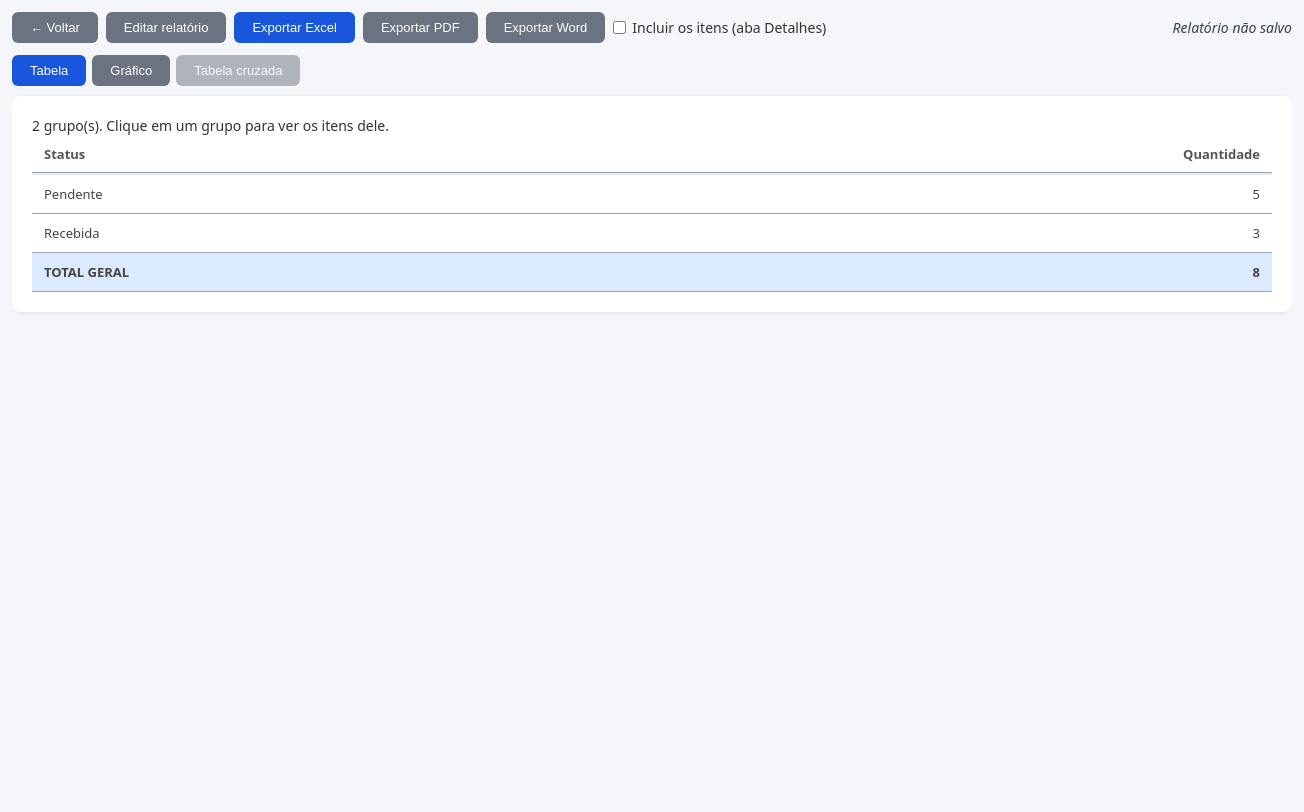
Test: Exportar em PDF e Word › voltar para a tabela retira a opção do gráfico (ele não está mais na tela)
This screenshot has width=1304, height=812.
expect the text "TOTAL GERAL" is shown: met, box [44, 263, 129, 281]
Click the button "Gráfico" at (131, 70), box [92, 55, 170, 86]
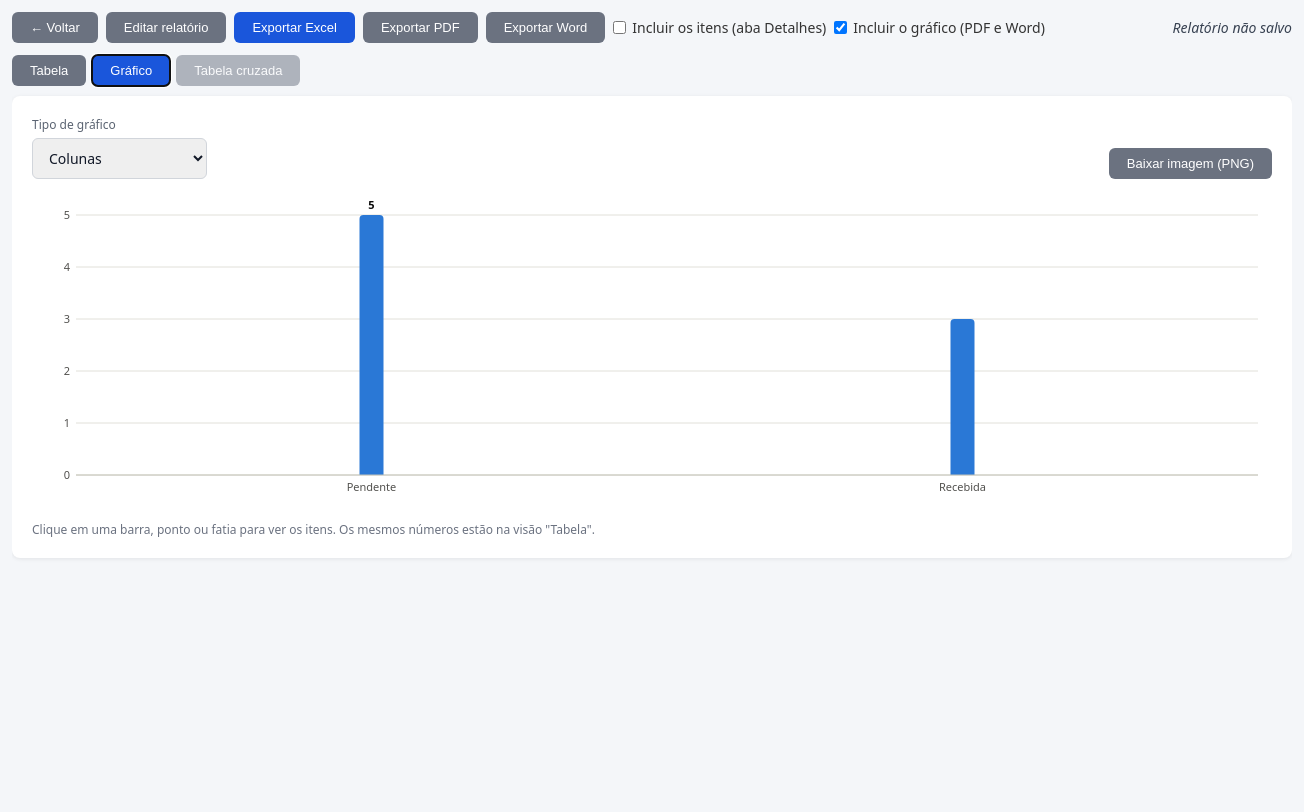
expect the checkbox labelled "Incluir o gráfico (PDF e Word)" is shown: met, box [834, 21, 847, 34]
Click the button "Tabela" at (49, 70), box [12, 55, 86, 86]
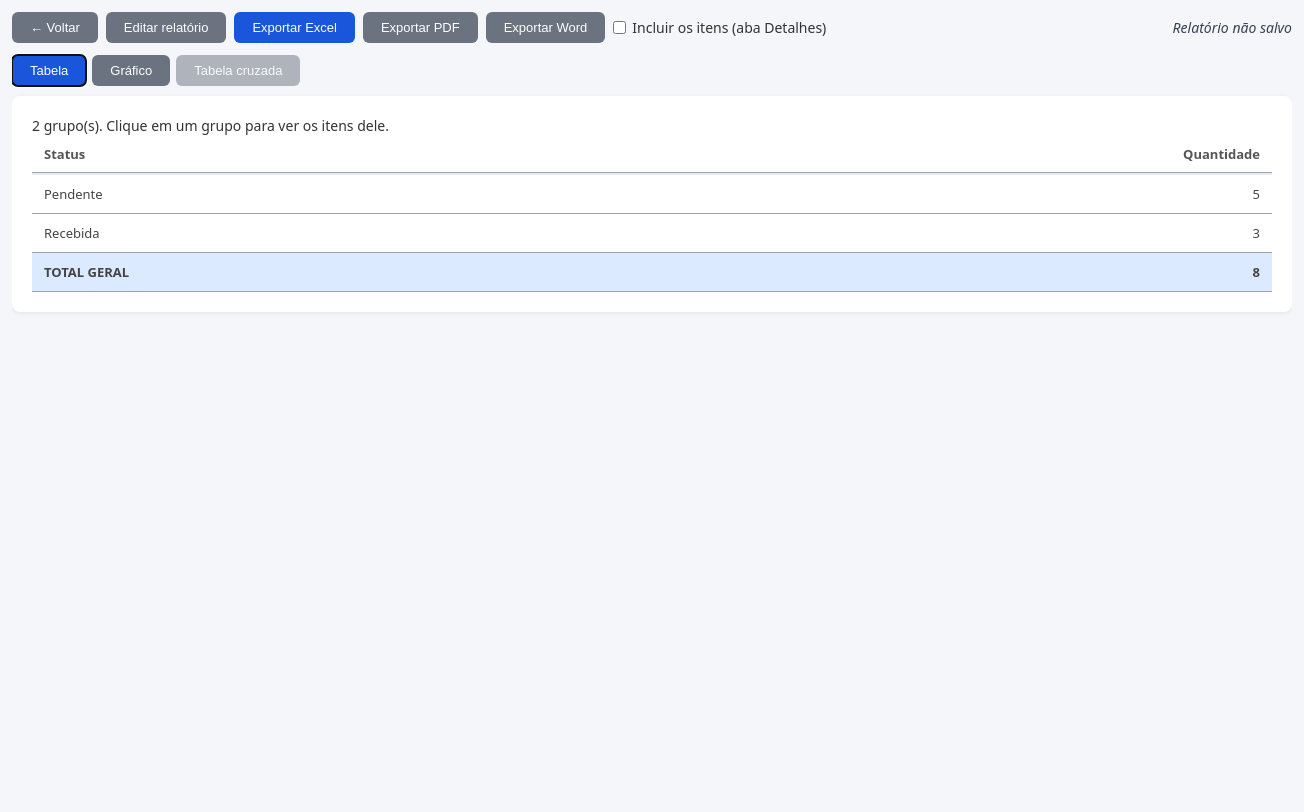
expect the label "Incluir o gráfico" is gone: met
